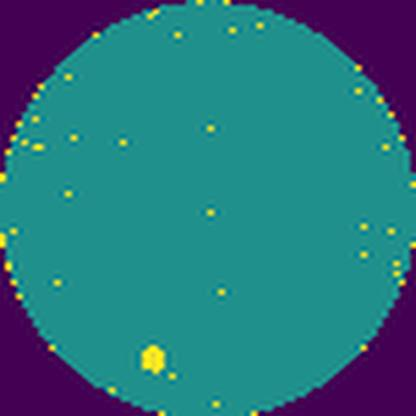Loc: (138, 341, 166, 377)
